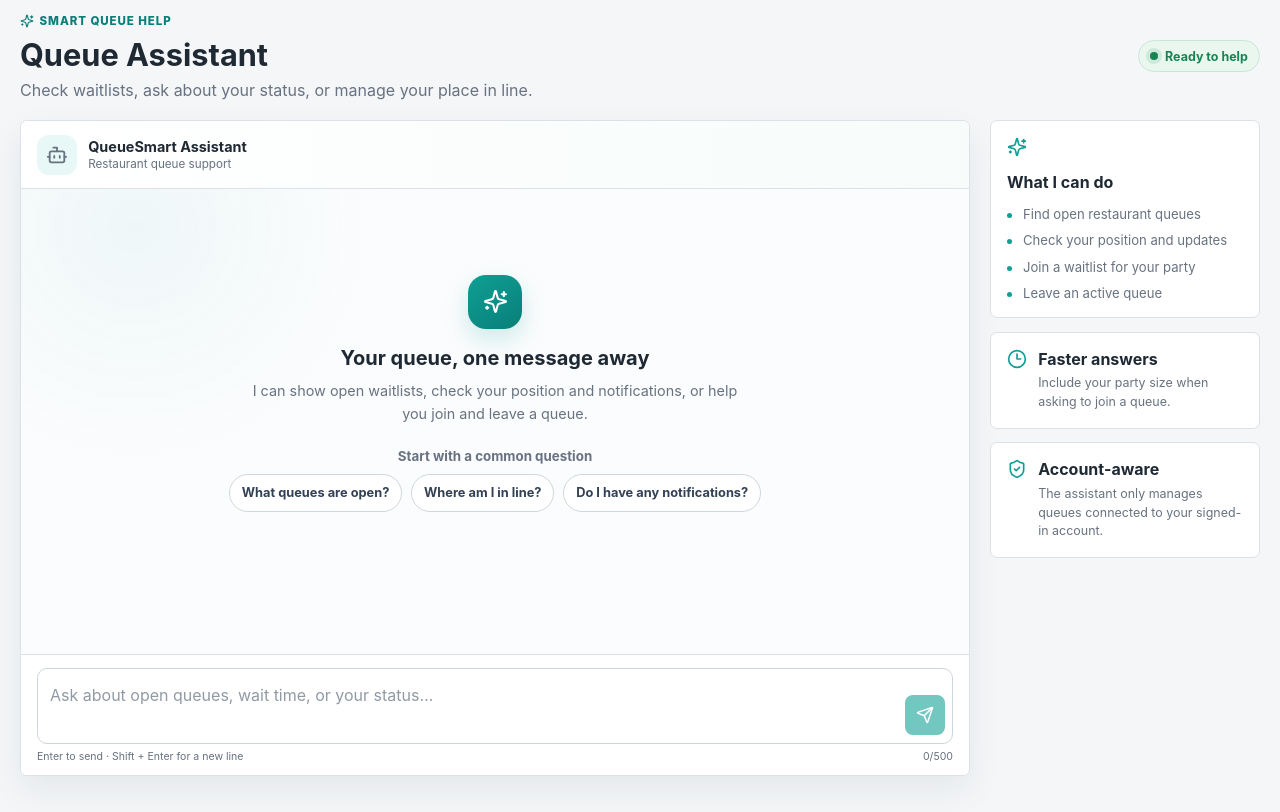
it: Queue Assistant › restores the message when sending fails
Expected: the heading "Your queue, one message away" is shown, [340,346,649,370]
Step 1. Type "Check my queue" into the text box named "Message Queue Assistant" → [472, 706], box [50,676,894,736]
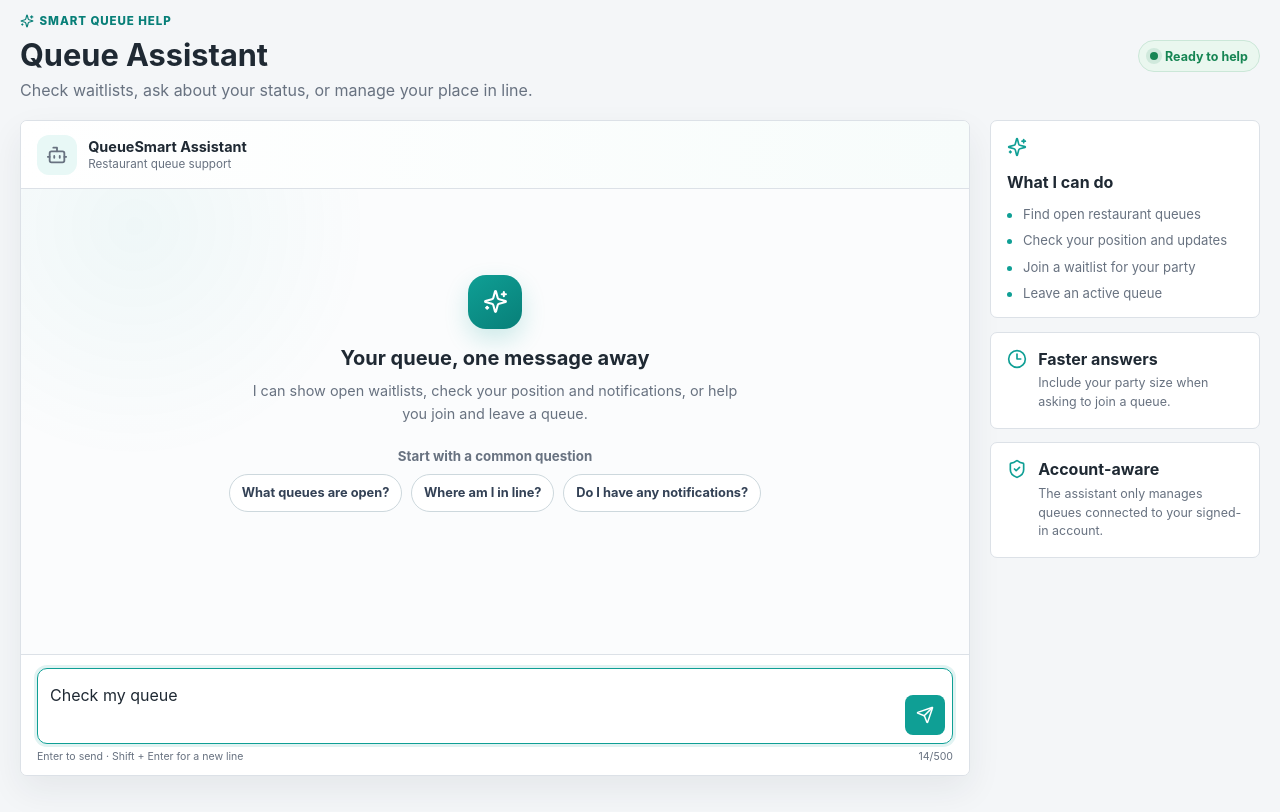
Step 2. Click the button named "Send message" → [925, 716], box [905,696,945,736]
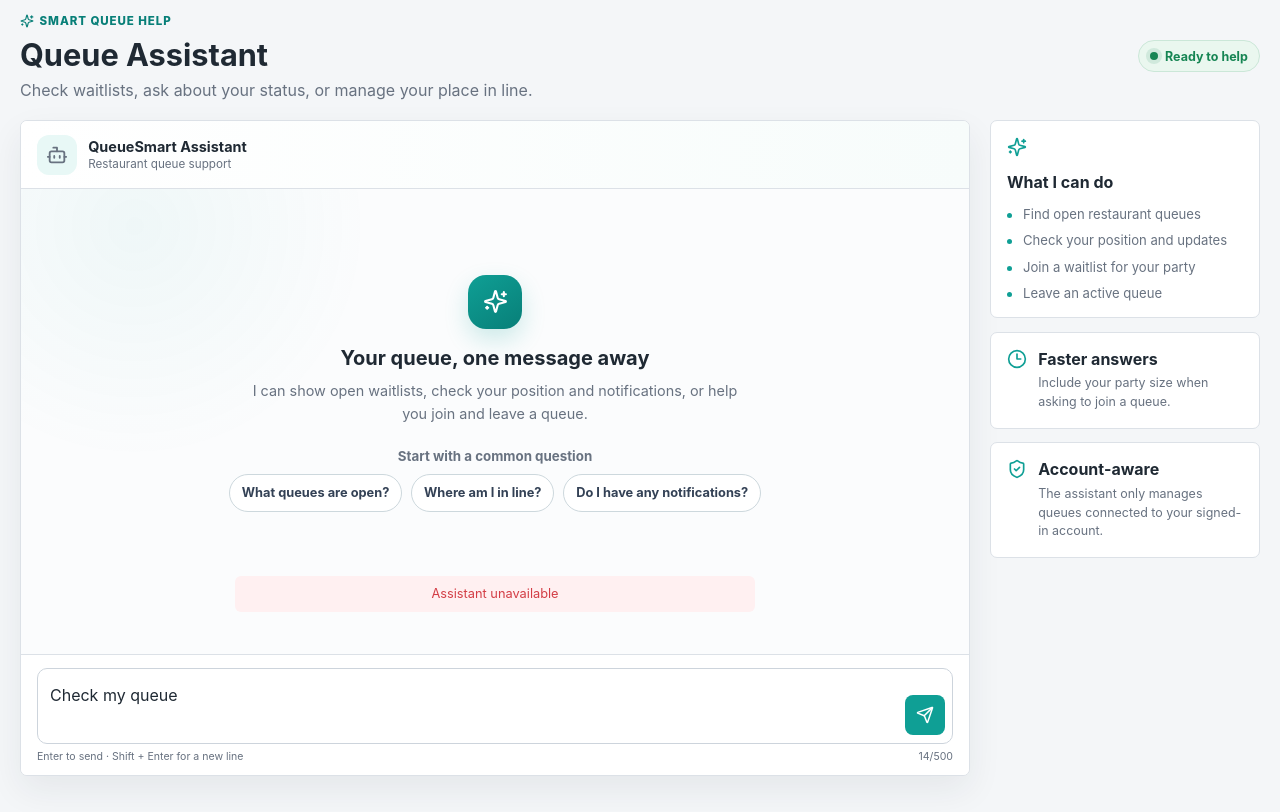
Result: the message reads "Assistant unavailable" at [431,586,559,601]
